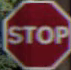Stop: (5, 4, 69, 65)
